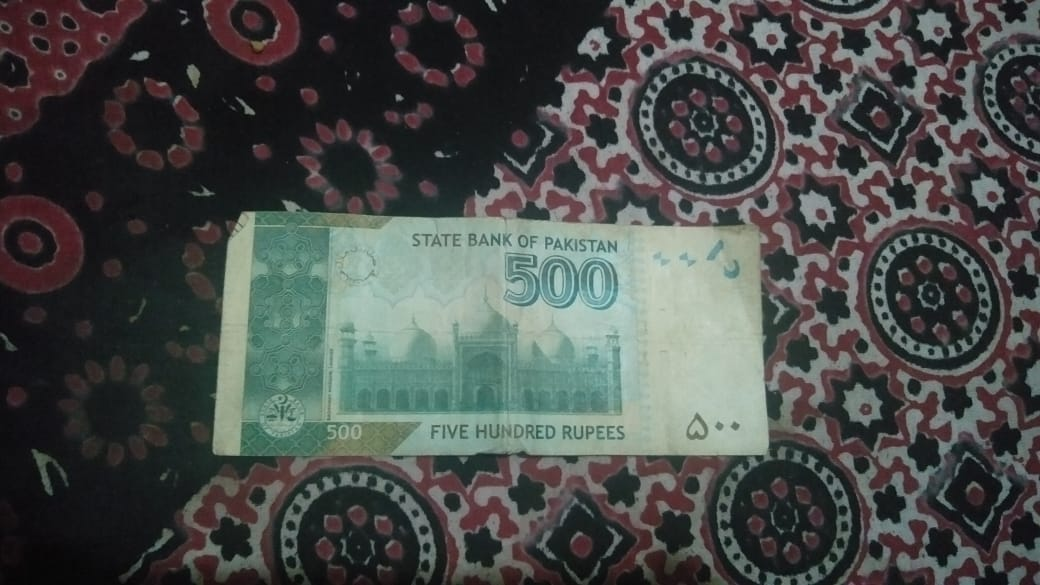500 rupee: (216, 191, 770, 469)
